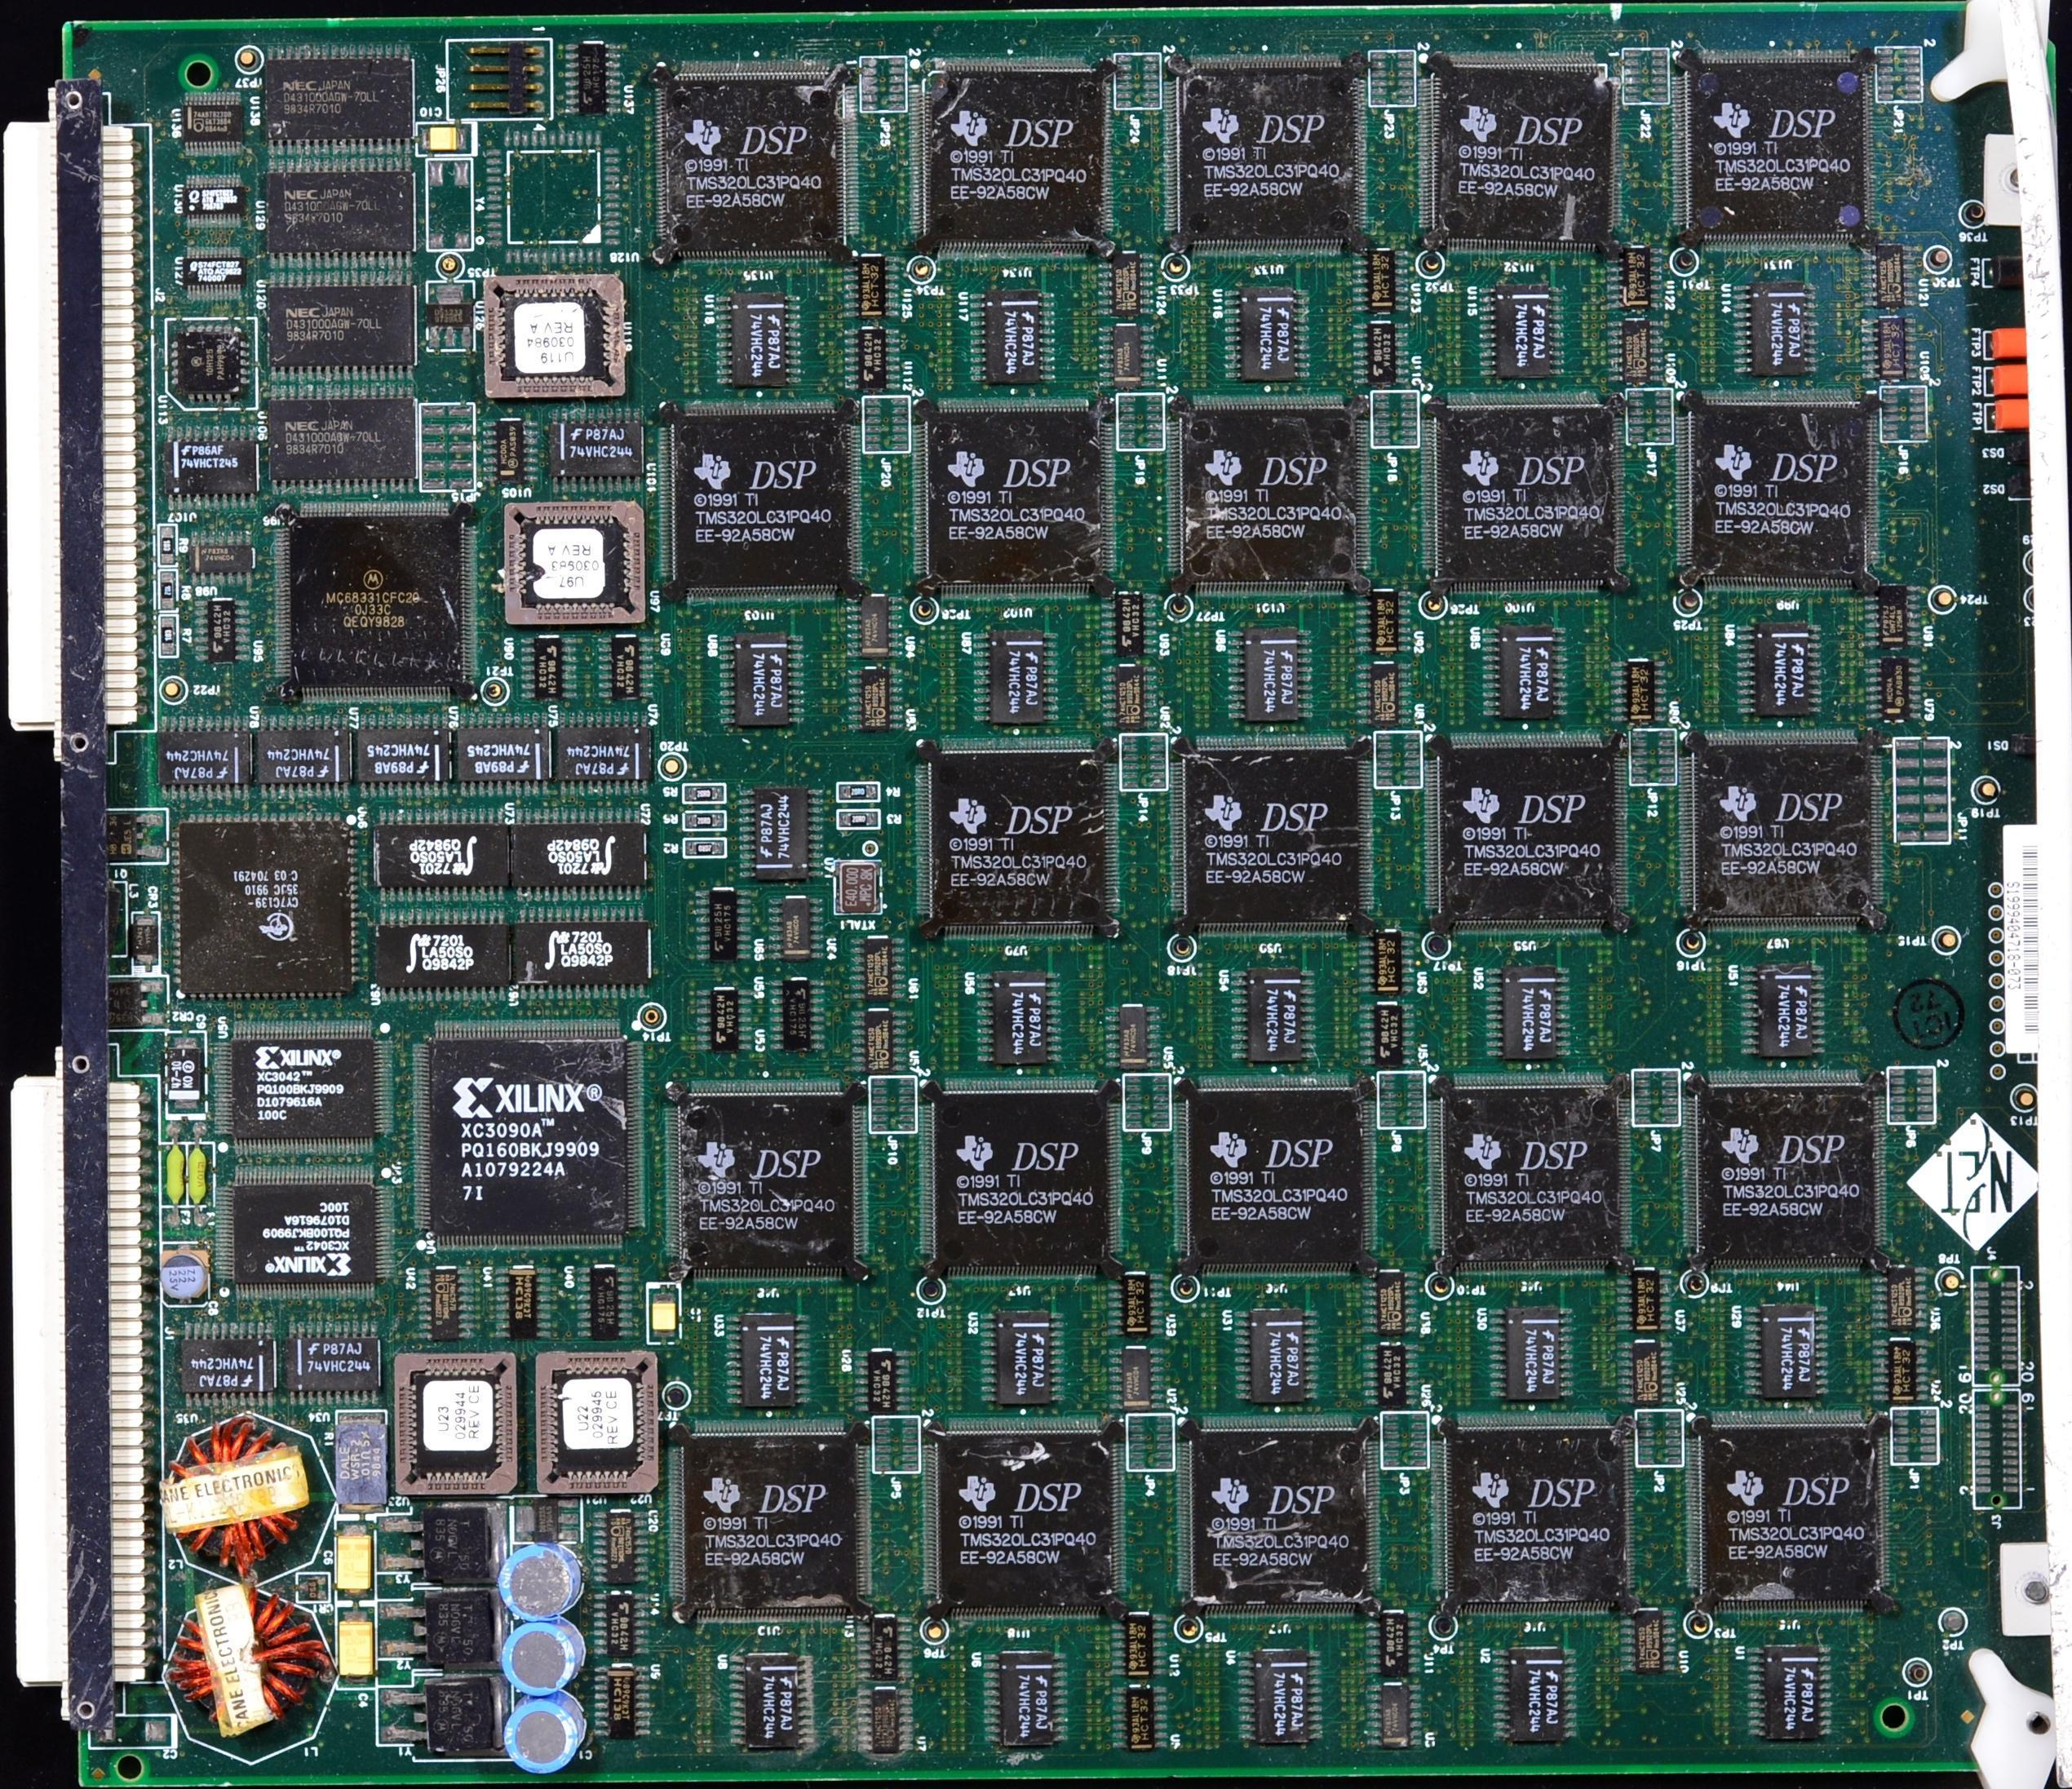Capacitor: (336, 1603, 376, 1689), (337, 1517, 374, 1602), (161, 1247, 213, 1305), (415, 122, 480, 158), (646, 1285, 680, 1344), (185, 1142, 206, 1207), (164, 1144, 182, 1207), (299, 1569, 330, 1604)
Connector: (7, 1074, 149, 1685), (1, 118, 144, 728)
IC: (411, 1016, 652, 1247), (917, 1415, 1128, 1623), (1432, 1412, 1640, 1619), (1677, 729, 1891, 930), (668, 1419, 874, 1626), (1685, 1411, 1894, 1615), (1670, 51, 1878, 255), (910, 57, 1113, 262), (918, 739, 1119, 946), (273, 503, 480, 703), (653, 64, 862, 265), (915, 399, 1122, 597), (1675, 391, 1880, 591), (1174, 1081, 1382, 1278), (1686, 1076, 1888, 1276), (1178, 1416, 1382, 1616), (1427, 734, 1632, 934), (1163, 60, 1367, 259), (1169, 737, 1371, 937), (921, 1082, 1119, 1283), (666, 1078, 872, 1270), (1423, 57, 1623, 254), (1167, 398, 1370, 594), (1429, 1077, 1633, 1269), (664, 407, 862, 603), (1426, 402, 1622, 594), (172, 814, 358, 1002), (215, 1020, 394, 1167), (221, 1167, 405, 1304), (480, 274, 635, 401), (503, 505, 651, 630), (387, 1359, 520, 1493), (536, 1352, 658, 1491), (266, 384, 419, 493), (262, 277, 417, 381), (262, 162, 414, 266), (263, 50, 414, 154), (374, 910, 512, 1000), (516, 909, 652, 1000), (373, 813, 508, 905), (512, 813, 651, 901), (180, 1322, 283, 1411), (717, 636, 808, 734), (1733, 623, 1822, 718), (981, 1653, 1074, 1747), (1233, 1310, 1323, 1405), (544, 716, 648, 796), (1224, 289, 1314, 383), (165, 318, 258, 409), (1748, 1646, 1835, 1739), (967, 296, 1057, 386), (289, 1321, 382, 1406), (1745, 1305, 1830, 1402), (1238, 1649, 1322, 1743), (1739, 963, 1826, 1055), (976, 970, 1060, 1065), (1483, 971, 1571, 1060), (1479, 289, 1564, 379), (737, 789, 823, 882), (1231, 972, 1317, 1064), (1495, 1648, 1578, 1742), (729, 1655, 812, 1749), (552, 411, 644, 493), (717, 292, 796, 390), (166, 432, 262, 511), (981, 1313, 1065, 1406), (1229, 631, 1311, 724), (1490, 1310, 1574, 1398), (164, 721, 255, 803), (453, 723, 547, 799), (1732, 288, 1814, 374), (355, 720, 446, 796), (255, 726, 350, 799), (1481, 631, 1565, 715), (975, 646, 1059, 726), (732, 1317, 804, 1407), (573, 1263, 635, 1337), (561, 41, 622, 117), (1097, 591, 1155, 669), (480, 413, 534, 498), (520, 633, 582, 702), (1096, 326, 1166, 388), (772, 977, 829, 1052), (694, 987, 757, 1055), (838, 253, 900, 318), (839, 326, 902, 392), (1862, 587, 1925, 652), (1353, 588, 1417, 654), (1604, 244, 1662, 312), (1348, 247, 1407, 315), (182, 92, 243, 157), (1618, 1343, 1682, 1404), (1359, 928, 1418, 996), (854, 1615, 914, 1681), (1099, 255, 1159, 321), (770, 896, 829, 962), (496, 1272, 554, 1340), (185, 529, 252, 587), (697, 888, 752, 958), (418, 1269, 474, 1338), (1861, 241, 1917, 310), (850, 1011, 910, 1073), (1609, 659, 1669, 722), (1862, 314, 1919, 380), (846, 591, 901, 659), (1359, 1006, 1419, 1067), (193, 600, 255, 661), (596, 638, 654, 702), (851, 666, 909, 729), (1618, 1267, 1673, 1332), (593, 1669, 651, 1735), (1875, 1261, 1927, 1331), (1363, 1267, 1416, 1336), (594, 1510, 645, 1580), (858, 1350, 915, 1414), (1111, 1612, 1165, 1679), (1367, 1612, 1420, 1679), (1866, 661, 1922, 722), (1626, 1607, 1679, 1673), (1875, 1339, 1931, 1400), (1357, 666, 1414, 726), (1606, 323, 1662, 384), (861, 1691, 914, 1752), (1111, 1272, 1161, 1338), (1371, 1683, 1420, 1749), (1112, 1689, 1169, 1747), (185, 175, 243, 231), (1107, 1007, 1160, 1068), (854, 937, 905, 1001), (1364, 1344, 1420, 1400), (1100, 675, 1160, 728), (1114, 1348, 1163, 1410), (1353, 325, 1406, 381), (599, 1592, 644, 1653), (186, 249, 244, 299), (835, 861, 882, 913)
Resistor: (337, 1410, 389, 1515), (835, 782, 880, 804), (836, 808, 882, 830), (157, 573, 178, 615), (158, 524, 179, 568), (684, 813, 726, 830), (684, 839, 724, 857), (682, 785, 721, 799)
Transistor: (157, 613, 179, 658)
